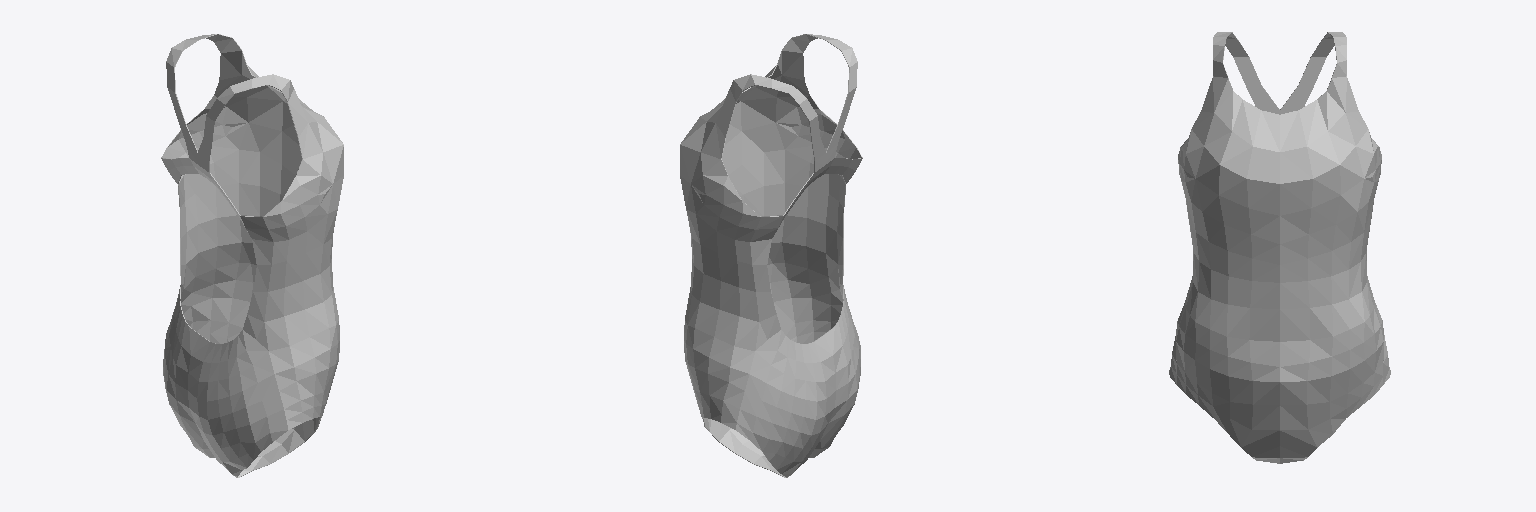
Rendered from swimsuit01.obj.
3 views of the same model, side by side, from view 1: azimuth 30°, elevation 25°; view 2: azimuth 150°, elevation 25°; view 3: azimuth 270°, elevation 25° (orthographic).
Parts seen in each view (by area): view 1: Plane.001; view 2: Plane.001; view 3: Plane.001.
Boxes of the visible parts, box(x1,y1,x2,y2) form: Plane.001: box(161, 34, 343, 477); Plane.001: box(680, 34, 862, 477); Plane.001: box(1169, 32, 1390, 463).
Bounding box in the file's own units: 1.26 × 3.52 × 1.73.